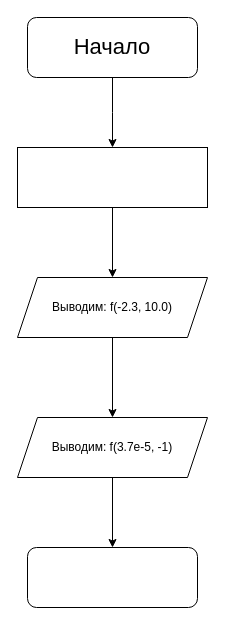
The diagram is 225 pixels wide and 625 high, and some of its shapes have lost their labels. The box of each missing label's shape, as (x1, y1, x2, y2) in pixels:
const double a = 7.1e-9; const double c = 2.0;: (16, 146, 208, 208)
Конец: (26, 546, 198, 608)
